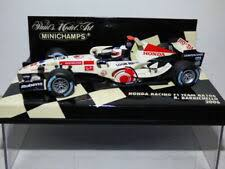FormulaOneCar: (13, 33, 203, 102)
